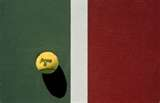tennis ball: (34, 51, 60, 75)
